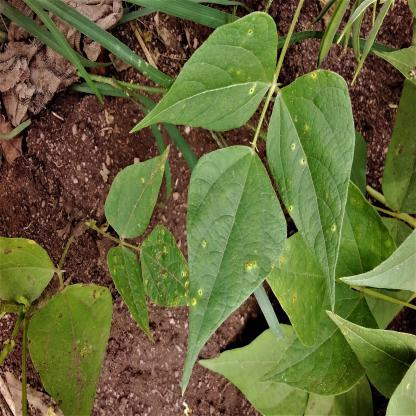Beans_Rust: (183, 144, 292, 401), (272, 66, 354, 314), (132, 10, 280, 135), (263, 210, 368, 350), (30, 280, 114, 416), (107, 145, 172, 237), (138, 221, 195, 311), (0, 229, 52, 311), (106, 246, 148, 336)
